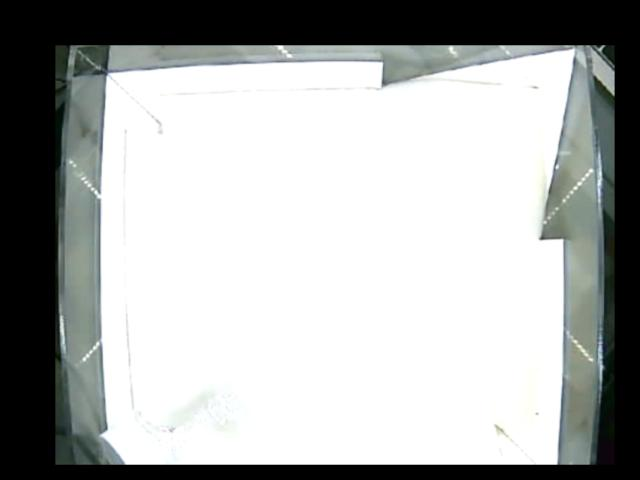Bottle: (99, 362, 251, 464)
